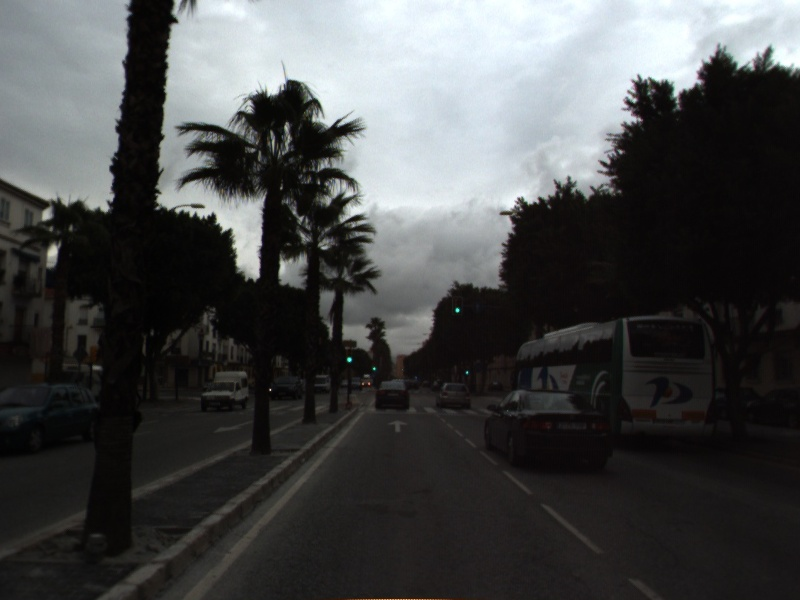STRAIGHT: (385, 418, 410, 434)
